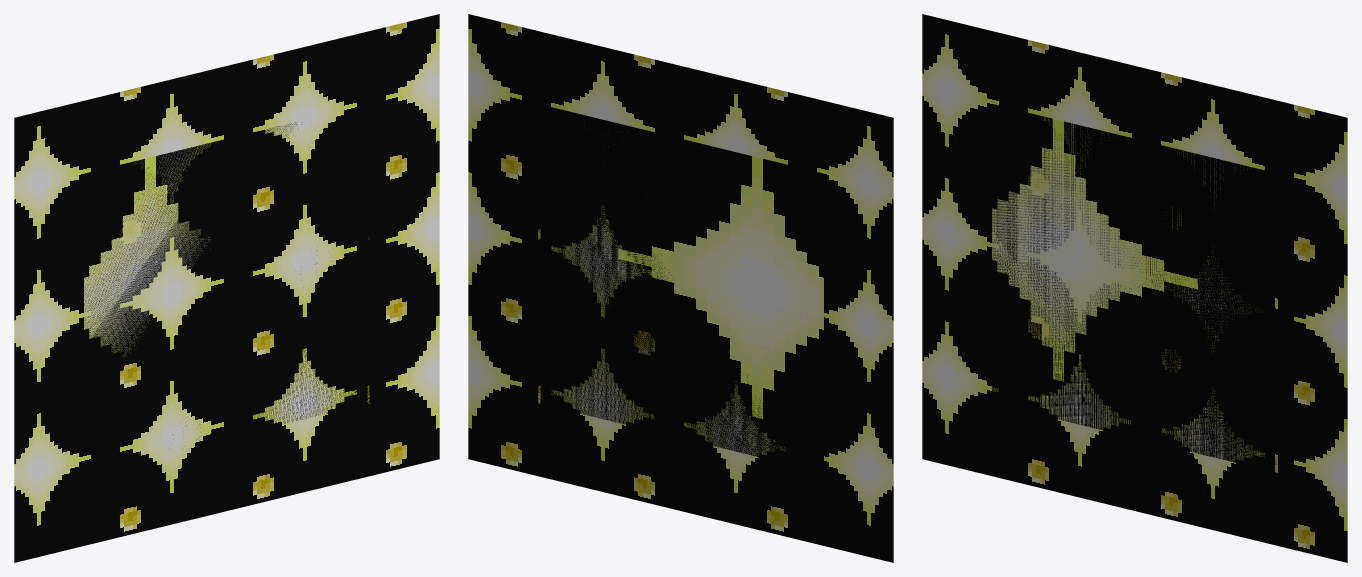
3 views of the same model, side by side, from view 1: azimuth 30°, elevation 25°; view 2: azimuth 150°, elevation 25°; view 3: azimuth 330°, elevation 25° (orthographic).
Visible parts, largest first — view 1: ef_063; view 2: ef_063; view 3: ef_063.
Part boxes in pixels (x1,y1,x2,y2): ef_063: [14, 14, 439, 562]; ef_063: [468, 14, 893, 562]; ef_063: [922, 14, 1347, 562].
Bounding box in the file's own units: 0.3999 × 0.3999 × 0.
1 material, 1 textured.
